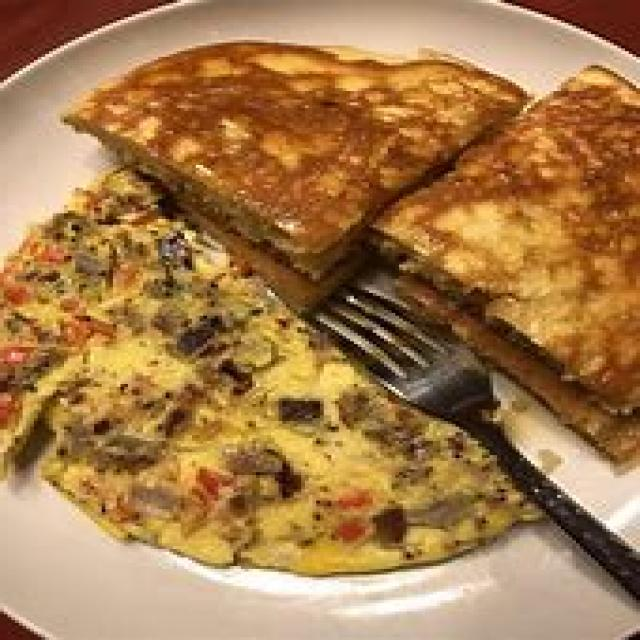Omelette: (11, 162, 527, 569)
Pancakes: (78, 46, 640, 280)
